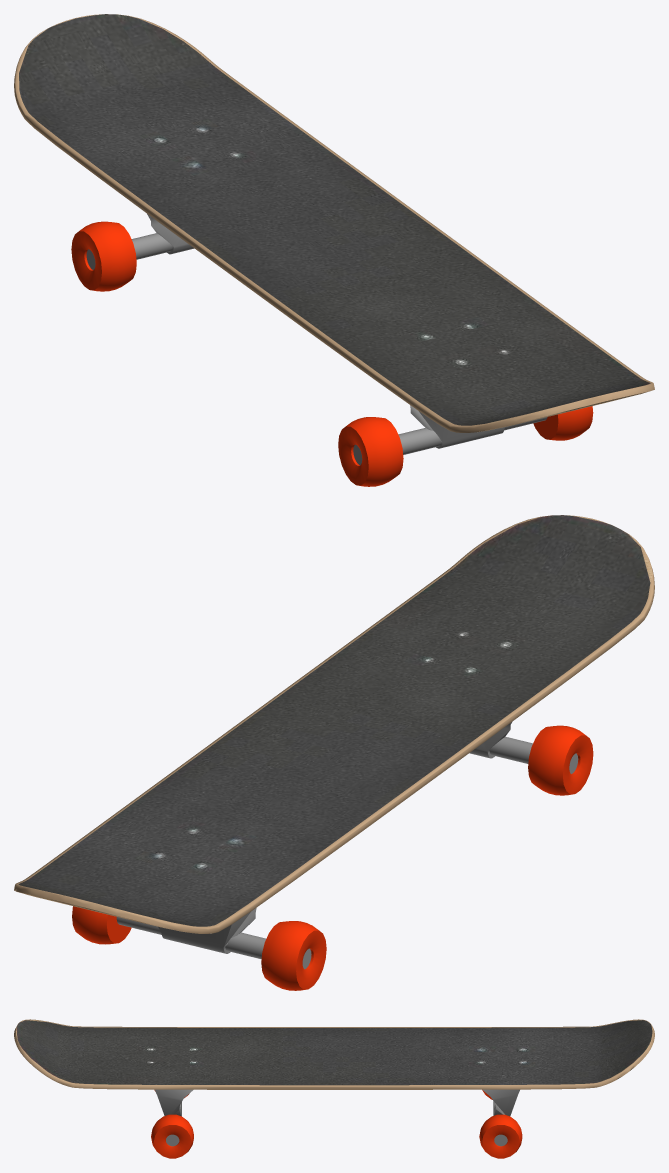
The model's file is Skateboard.FBX.
The picture shows the model from 3 angles, top to bottom: view 1: azimuth 30°, elevation 25°; view 2: azimuth 150°, elevation 25°; view 3: azimuth 270°, elevation 25°; orthographic projection. The views are drawn at different scales.
Visible parts, largest first — view 1: skateboard; view 2: skateboard; view 3: skateboard.
Part boxes in pixels (bbox=[...]): skateboard: bbox=[14, 14, 654, 486]; skateboard: bbox=[14, 515, 654, 990]; skateboard: bbox=[14, 1019, 654, 1158].
Bounding box in the file's own units: 14.92 × 9.93 × 60.14.
Materials: 2 (1 with a texture image).
